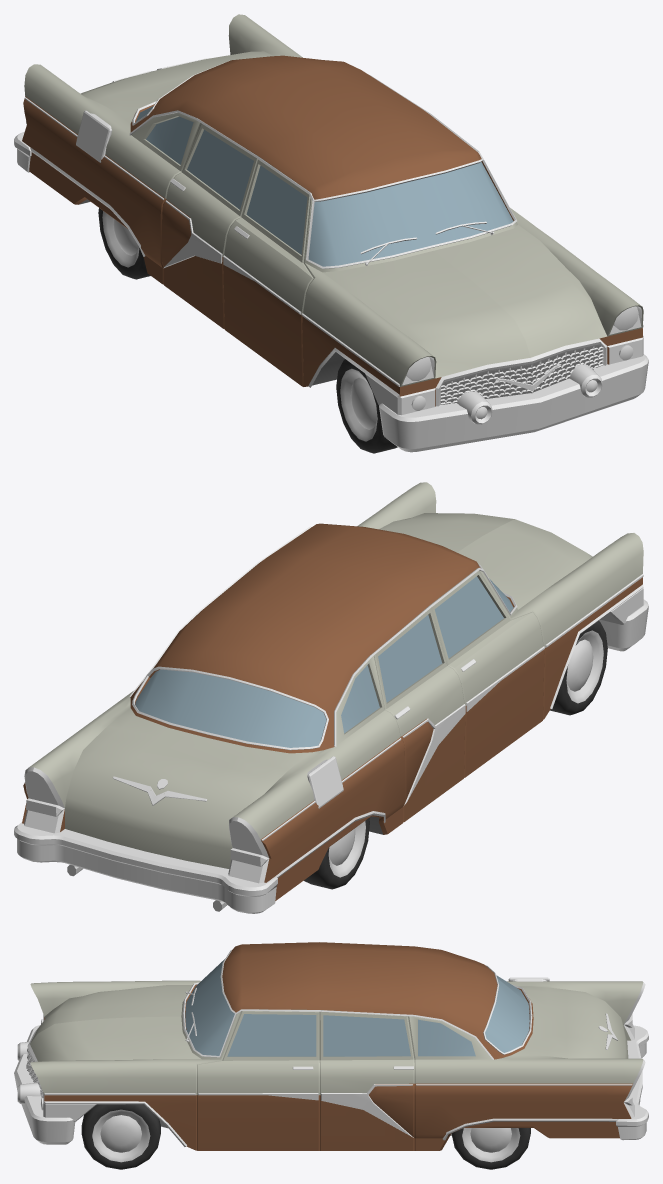
Rendered from ChaikaFuelTank.fbx.
The picture shows the model from 3 angles, top to bottom: view 1: azimuth 30°, elevation 25°; view 2: azimuth 150°, elevation 25°; view 3: azimuth 270°, elevation 25°; orthographic projection. The views are drawn at different scales.
Visible parts, largest first — view 1: Body, Wheel_FR, Wheel_RR, FuelHatch_Main; view 2: Body, Wheel_FR, Wheel_RR, FuelHatch_Main; view 3: Body, Wheel_FL, Wheel_RL.
Boxes of the visible parts, x1,y1,x2,y2 form: Body: [14, 14, 648, 452]; Wheel_FR: [336, 359, 397, 453]; Wheel_RR: [98, 208, 150, 279]; FuelHatch_Main: [76, 110, 111, 162]; Body: [14, 482, 648, 913]; Wheel_FR: [550, 621, 607, 715]; Wheel_RR: [304, 818, 369, 889]; FuelHatch_Main: [307, 756, 343, 808]; Body: [14, 942, 648, 1150]; Wheel_FL: [81, 1104, 160, 1169]; Wheel_RL: [451, 1128, 530, 1169].
Size of the model in its own units: 201 by 162 by 561.
